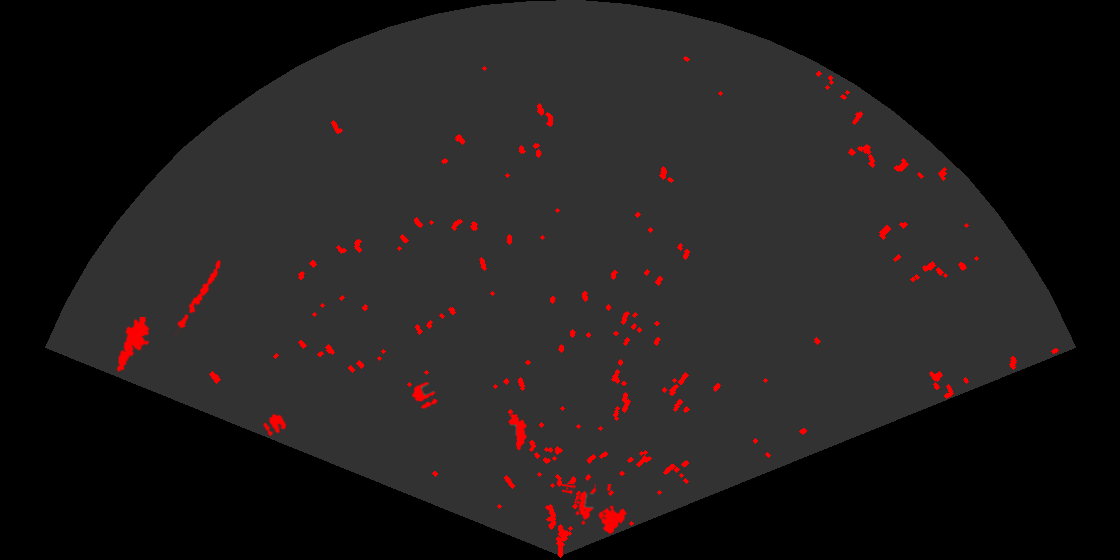AUV: (507, 412, 527, 452)
ball: (410, 380, 439, 410), (261, 412, 288, 438)
cage: (562, 484, 629, 536)
chain: (172, 258, 223, 337)
frogman: (115, 317, 151, 374)
